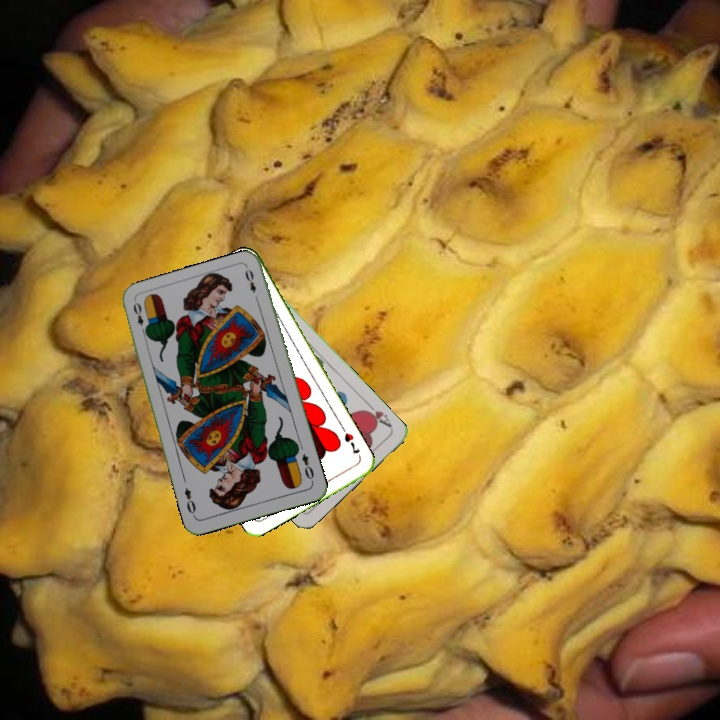EO: (129, 298, 150, 338), (298, 450, 317, 485)
H7: (340, 429, 362, 457)
HA: (359, 398, 395, 430)
